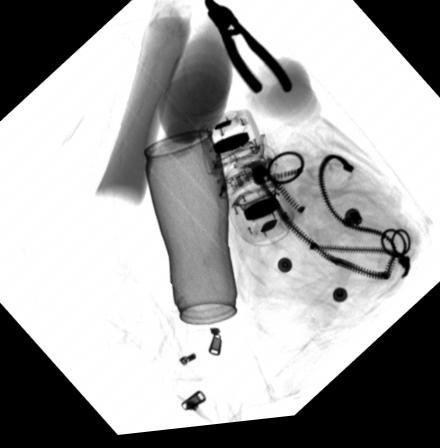Pliers: (202, 0, 292, 101)
